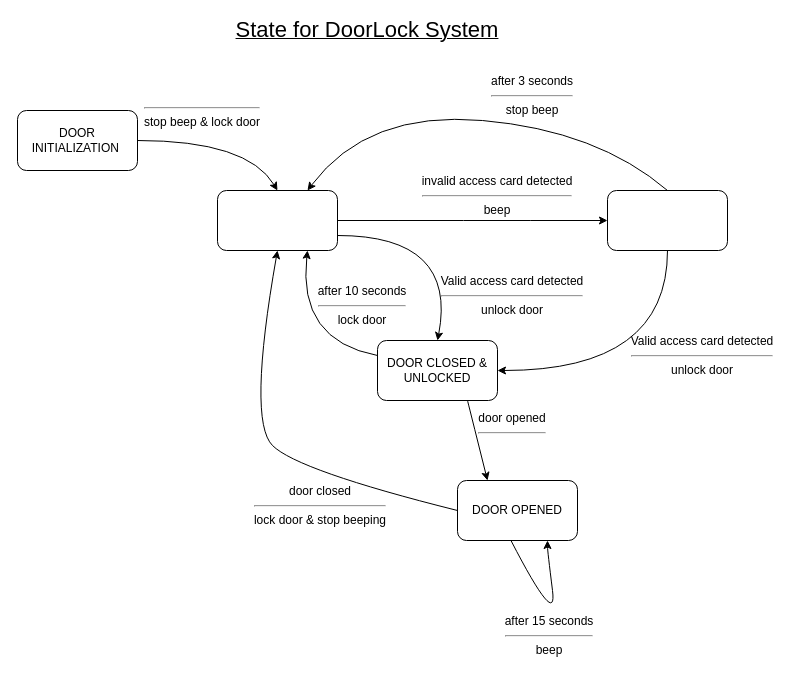
The diagram is 805 pixels wide and 677 high, and some of its shapes have lost their labels. The shapes that lost their labels are listed below. From the top down, each one's centre as x and y in pixels, then its label:
At (x=277, y=220): "DOOR CLOSED & LOCKED".
At (x=667, y=220): "DOOR CLOSED & LOCKED & BEEP".
